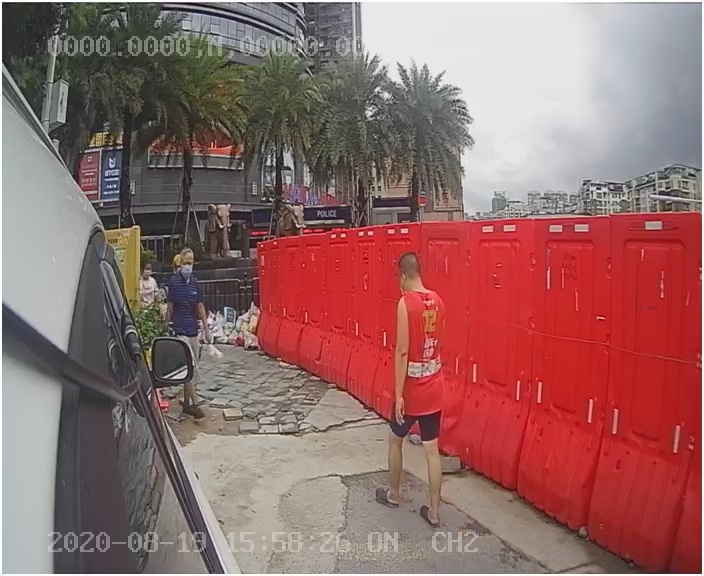person: (357, 244, 473, 521)
